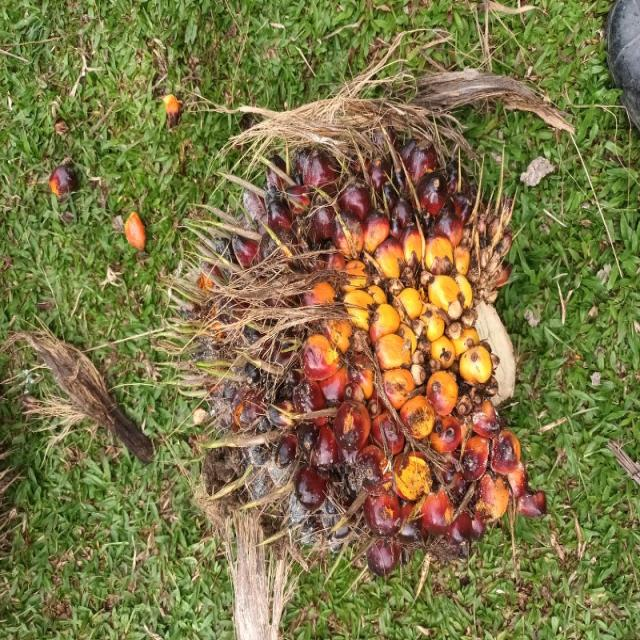fraksi 1: (67, 117, 435, 591)
